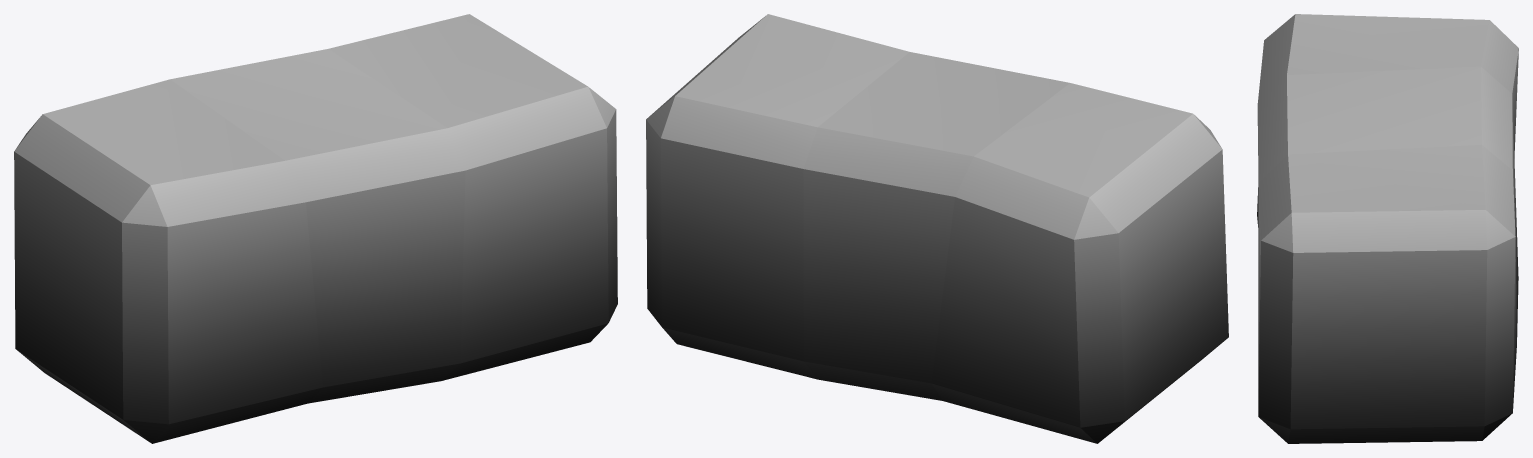
The model's file is Brick_02.fbx.
The picture shows the model from 3 angles, left to right: view 1: azimuth 30°, elevation 25°; view 2: azimuth 150°, elevation 25°; view 3: azimuth 270°, elevation 25°; orthographic projection. The views are drawn at different scales.
Parts seen in each view (by area): view 1: Brick_02; view 2: Brick_02; view 3: Brick_02.
Boxes of the visible parts, x1,y1,x2,y2 form: Brick_02: (14,14,617,443); Brick_02: (646,14,1228,443); Brick_02: (1257,14,1518,443).
Bounding box in the file's own units: 40.92 × 21.01 × 20.54.
